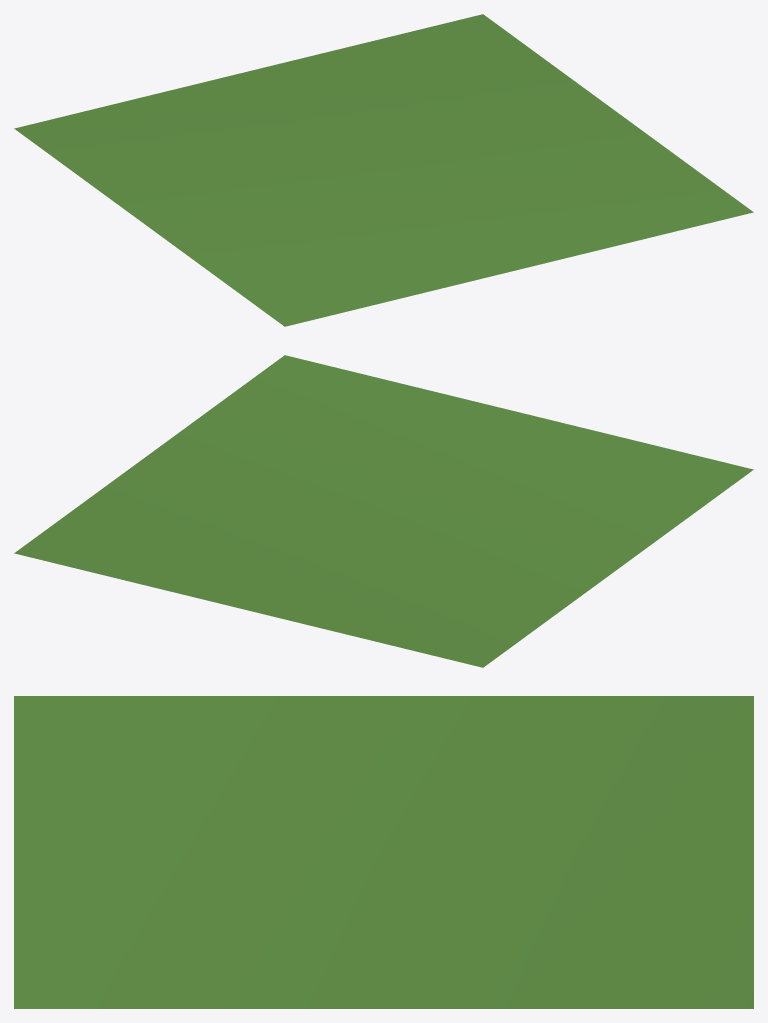
The model's file is terrain_11_2_1.glb.
3 renders of one model, top to bottom at view 1: azimuth 30°, elevation 25°; view 2: azimuth 150°, elevation 25°; view 3: azimuth 270°, elevation 25°, orthographic. The views are drawn at different scales.
Visible parts, largest first — view 1: m; view 2: m; view 3: m.
Boxes of the visible parts, x1,y1,x2,y2 form: m: [14, 14, 753, 326]; m: [14, 355, 753, 667]; m: [14, 696, 753, 1008].
Bounding box in the file's own units: 2 × 0 × 2.
